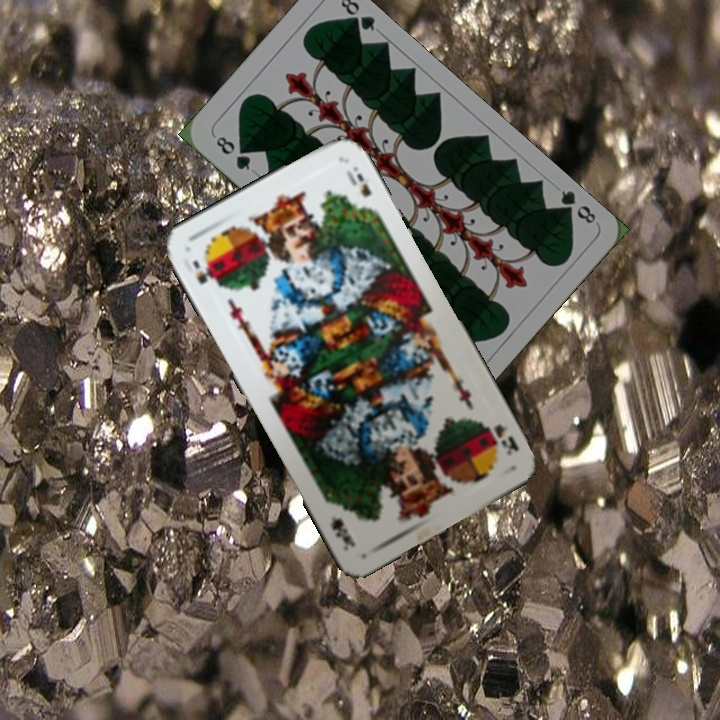G8: (553, 185, 599, 227), (210, 131, 254, 174)
SK: (477, 415, 522, 458), (188, 256, 215, 287)
